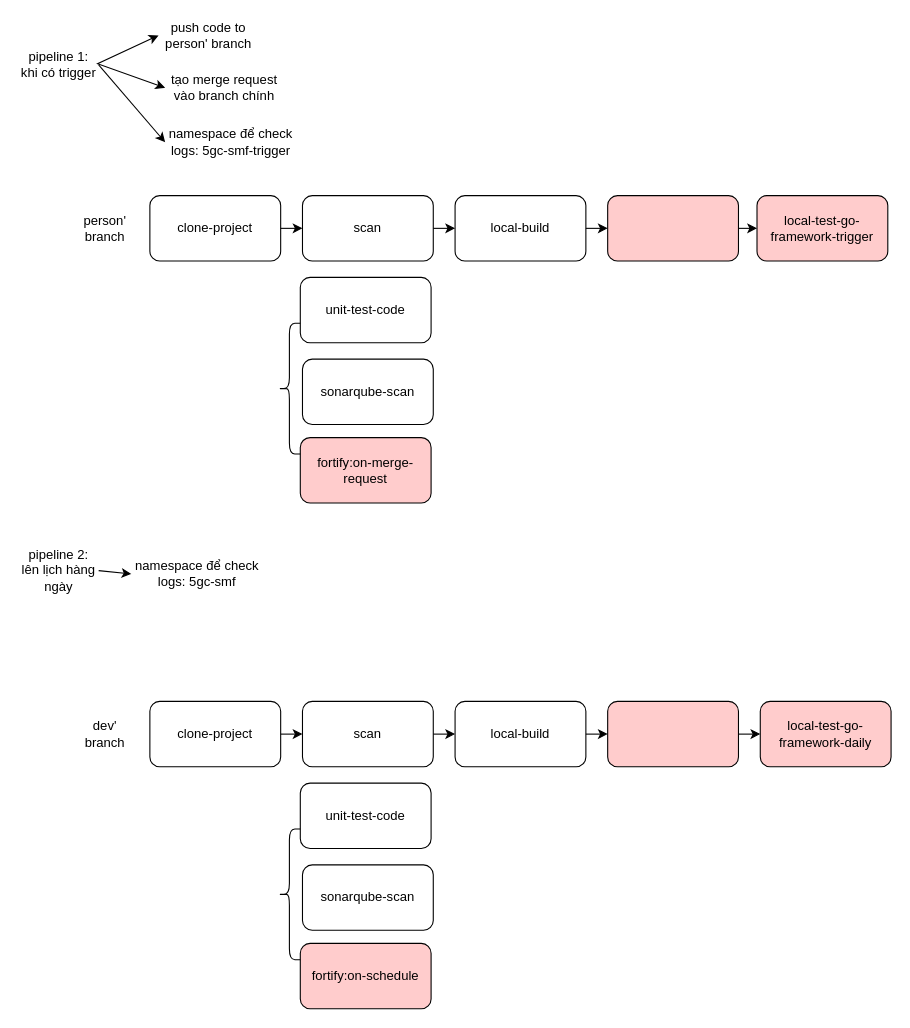
This 910x1028 diagram has some shape labels left out. Each missing label, with the centre of its shape:
"deploy-151-daily" belongs at (x=672, y=733).
"deploy-151-trigger" belongs at (x=672, y=228).
